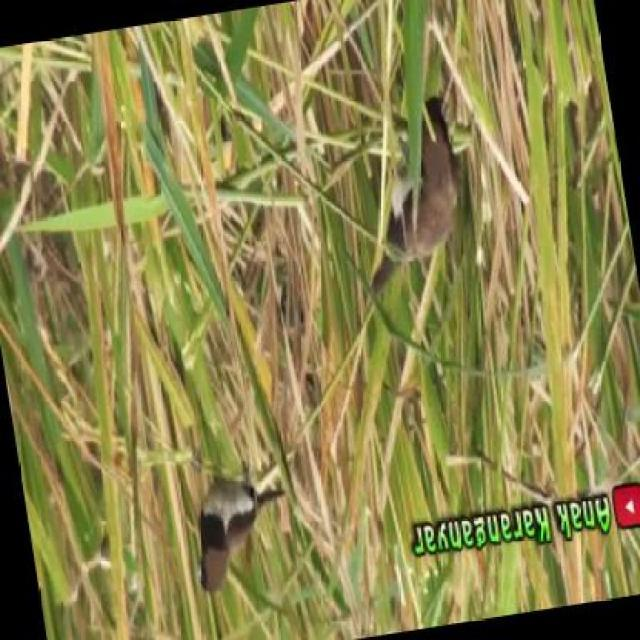Bird: (369, 99, 479, 296), (184, 465, 298, 608)
